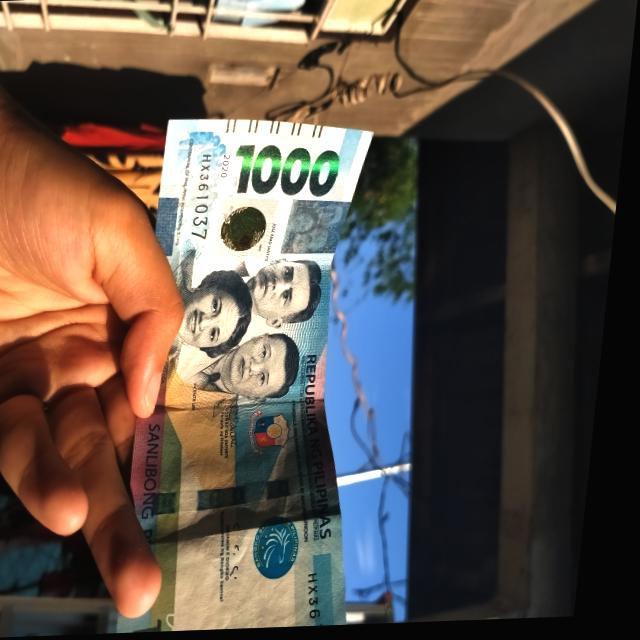concealed_value: (286, 200, 357, 257)
optically_variable_device: (218, 199, 283, 261)
value: (227, 143, 351, 197)
